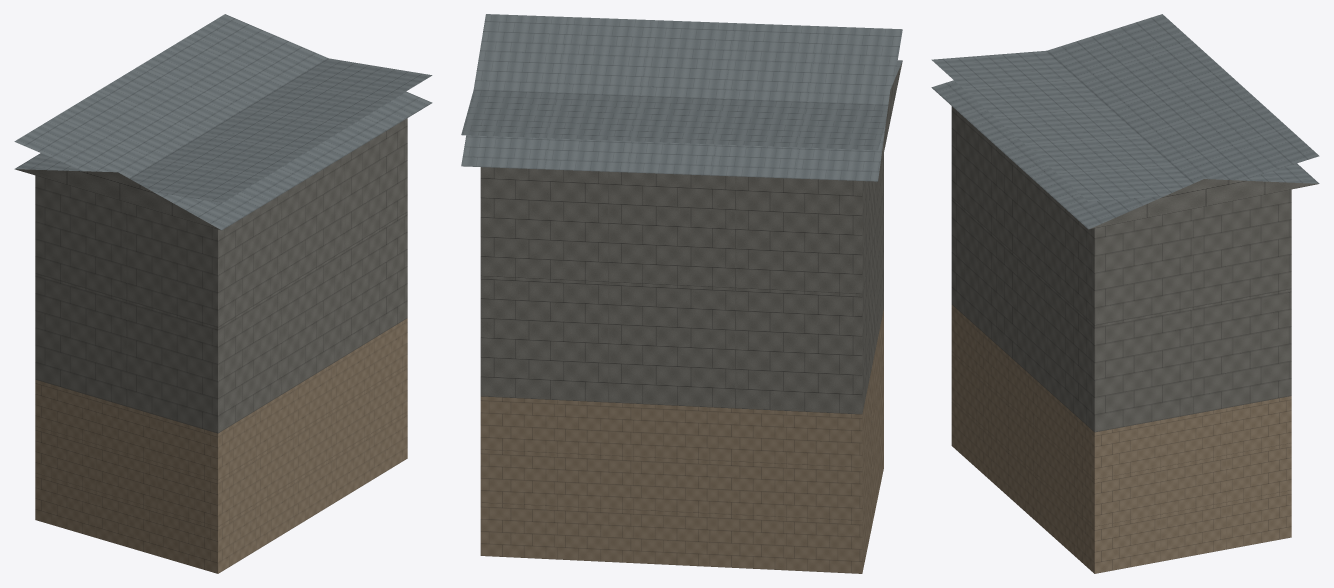
Rendered from bld_c23_15_576.gltf.
The picture shows the model from 3 angles, left to right: view 1: azimuth 30°, elevation 25°; view 2: azimuth 150°, elevation 25°; view 3: azimuth 270°, elevation 25°; orthographic projection. The views are drawn at different scales.
Visible parts, largest first — view 1: bld_c23_15_576; view 2: bld_c23_15_576; view 3: bld_c23_15_576.
Boxes of the visible parts, left/top/right/bottom form: bld_c23_15_576: left=14, top=14, right=432, bottom=573; bld_c23_15_576: left=461, top=14, right=902, bottom=573; bld_c23_15_576: left=931, top=14, right=1319, bottom=573.
Bounding box in the file's own units: 14.52 × 13.8 × 12.69.
Materials: 4 (4 with a texture image).
